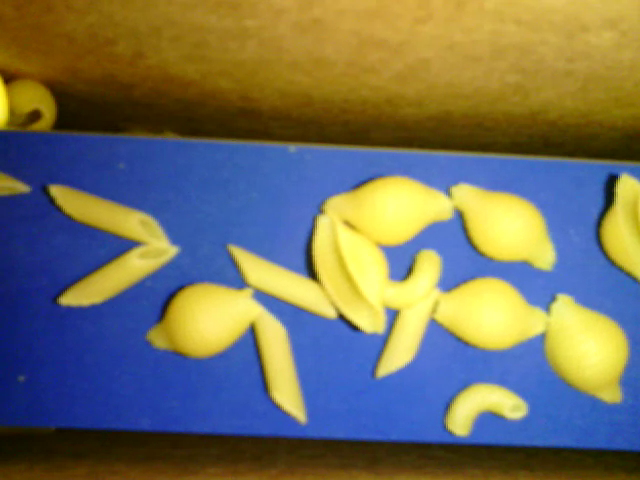elbow: (443, 381, 528, 438), (386, 246, 444, 311)
penne: (229, 243, 339, 321), (55, 243, 179, 304), (247, 299, 307, 423), (49, 187, 168, 245), (374, 291, 439, 380), (2, 173, 35, 199)
shell: (304, 217, 391, 335), (540, 295, 632, 405), (322, 173, 457, 246), (452, 182, 556, 272), (430, 277, 552, 353), (144, 283, 259, 361), (597, 175, 639, 281), (2, 75, 58, 135)
